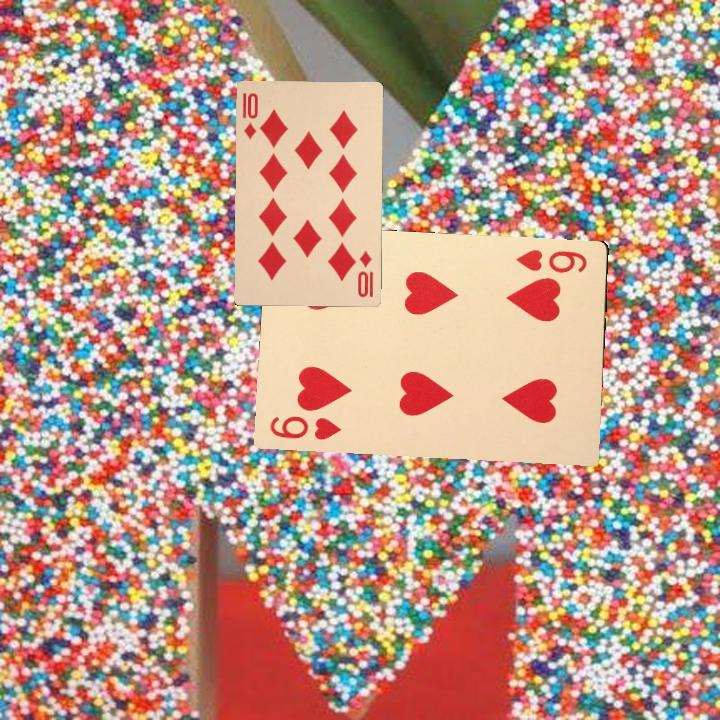10d: (354, 247, 376, 300), (239, 89, 260, 142)
6h: (266, 411, 344, 443), (515, 245, 589, 276)
